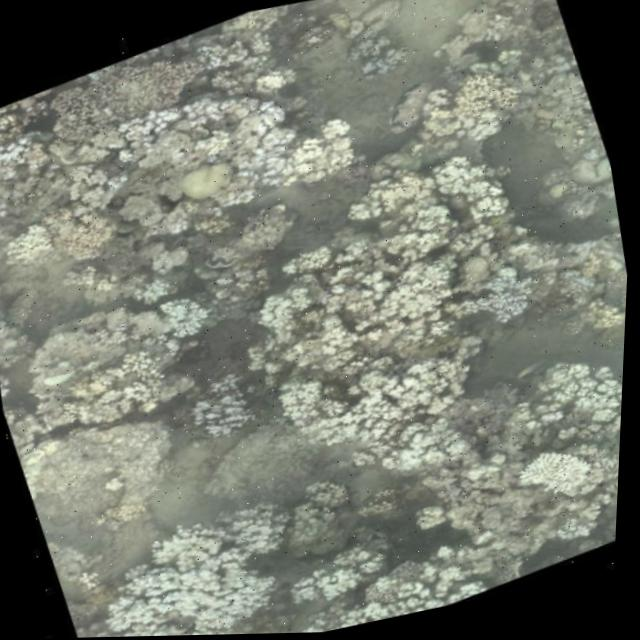Bleached Coral: (69, 479, 332, 638), (80, 53, 285, 175), (175, 74, 338, 222), (500, 411, 625, 522), (448, 241, 566, 347), (166, 358, 282, 461), (118, 272, 235, 368), (325, 12, 425, 96), (0, 116, 60, 186)
